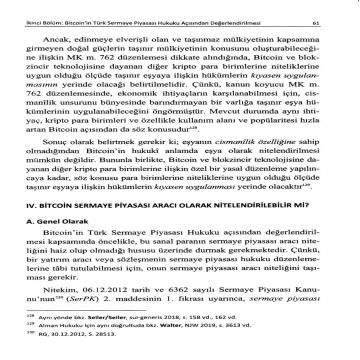footer: (37, 311, 253, 338)
header: (24, 17, 264, 26)
